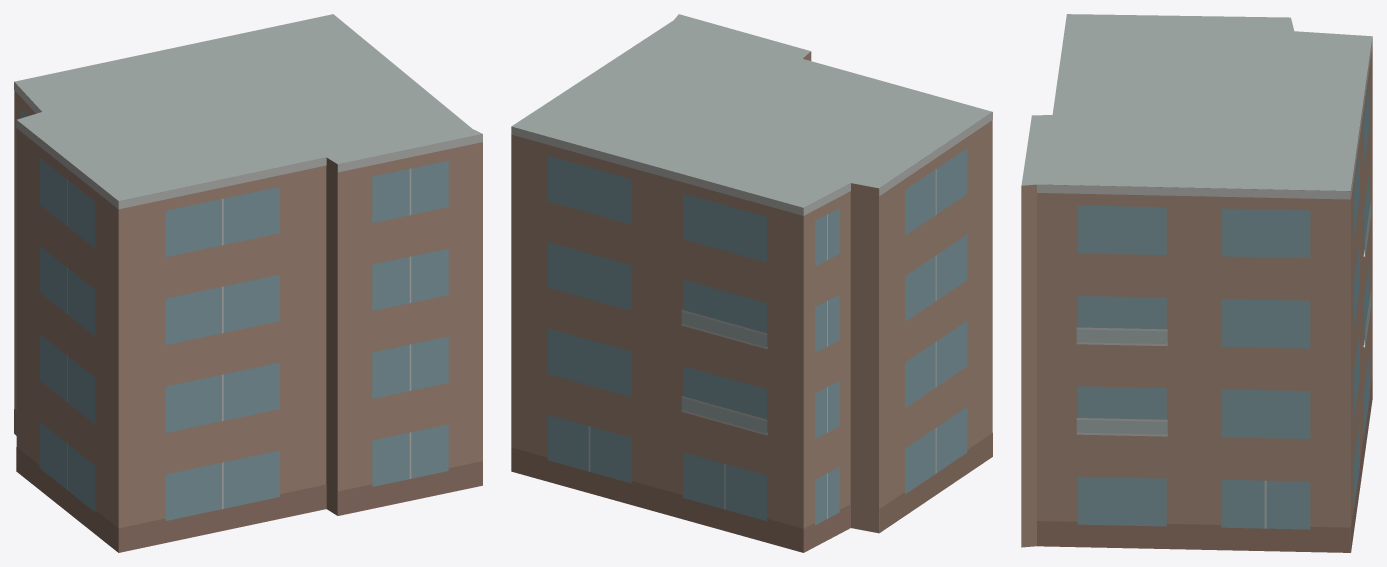
File: survey-upis-32591169.glb
3 renders of one model, left to right at view 1: azimuth 30°, elevation 25°; view 2: azimuth 150°, elevation 25°; view 3: azimuth 270°, elevation 25°, orthographic. The views are drawn at different scales.
Parts seen in each view (by area): view 1: survey-upis-32591169.tmp; view 2: survey-upis-32591169.tmp; view 3: survey-upis-32591169.tmp.
Boxes of the visible parts, x1=… form: survey-upis-32591169.tmp: x1=14, y1=14, x2=482, y2=552; survey-upis-32591169.tmp: x1=511, y1=14, x2=992, y2=552; survey-upis-32591169.tmp: x1=1021, y1=14, x2=1372, y2=552.
Size of the model in its own units: 10.98 by 10.45 by 9.2.
